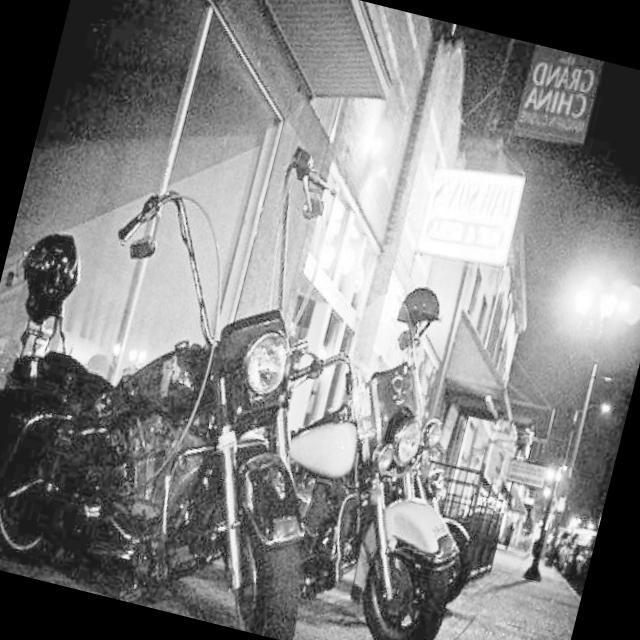Motorcycle: (0, 85, 403, 640), (225, 219, 533, 640)
